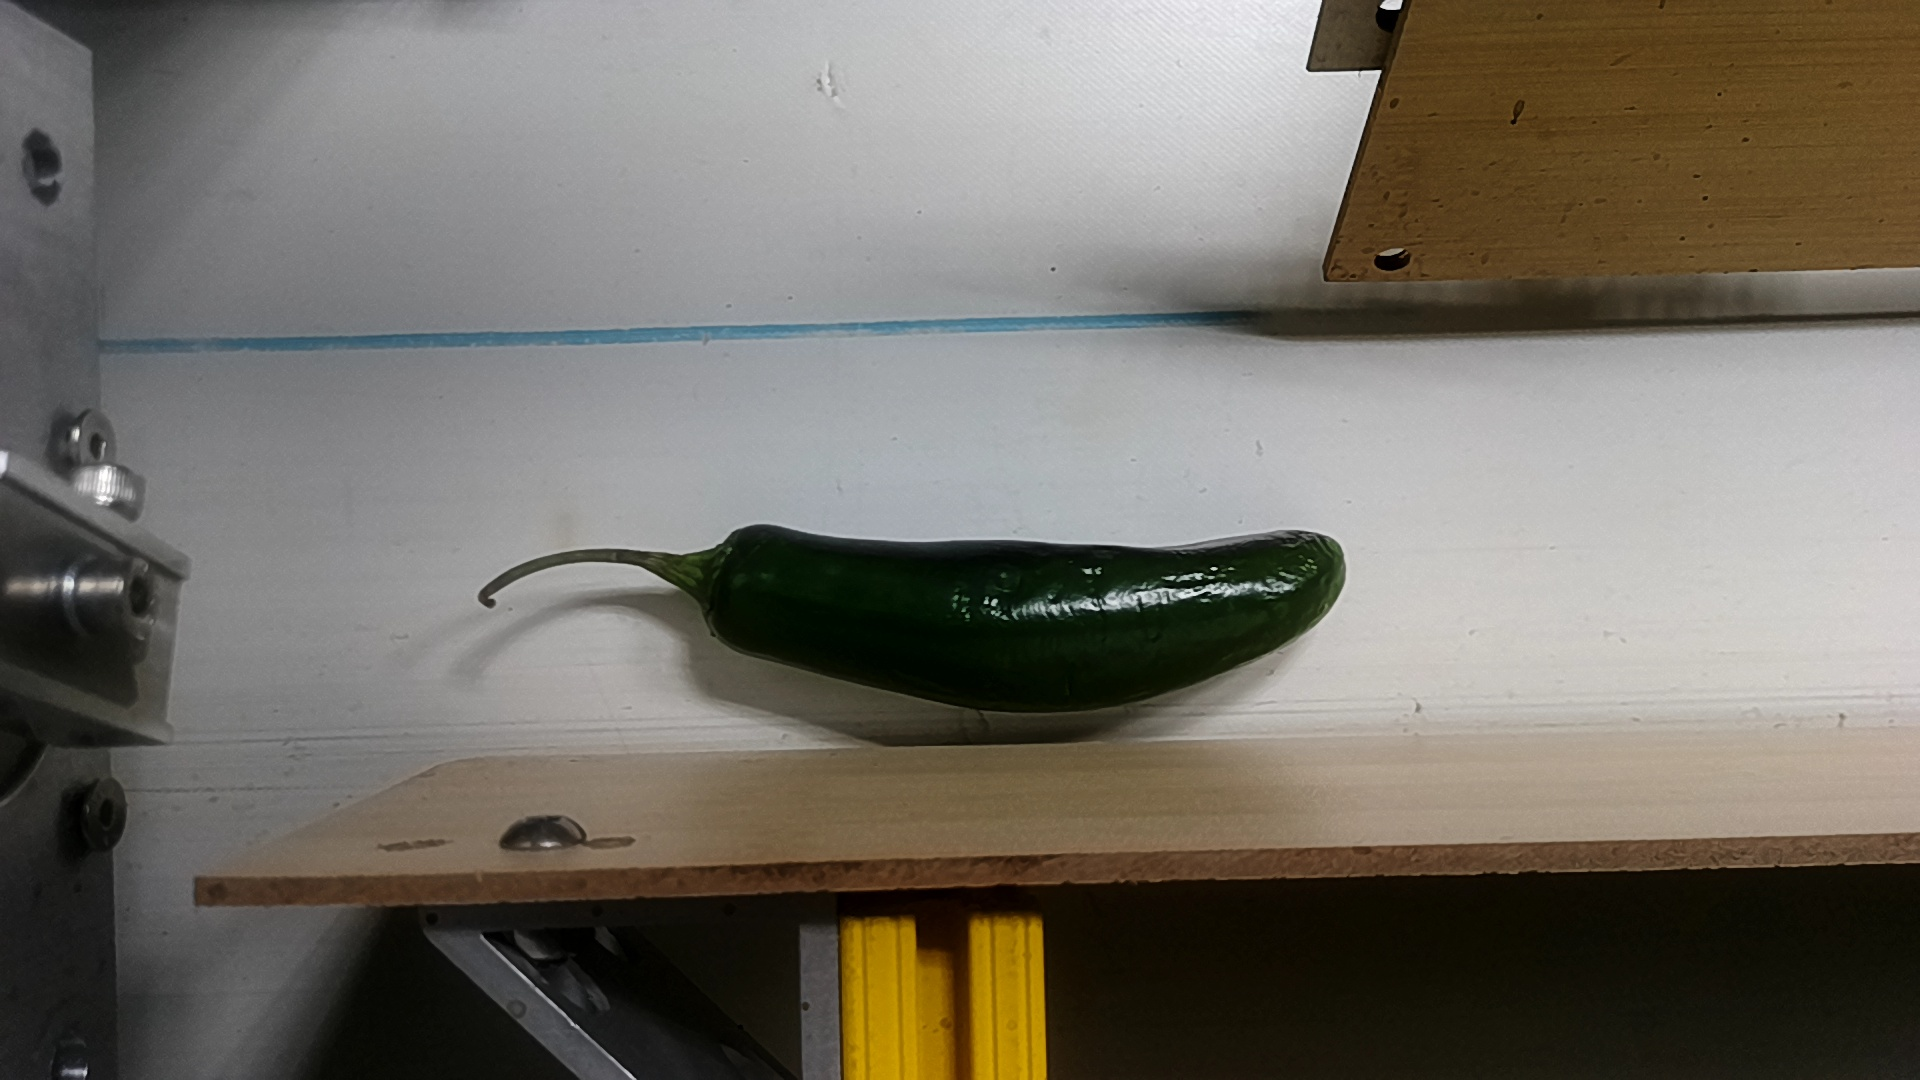Cut Point: (659, 498, 785, 669)
